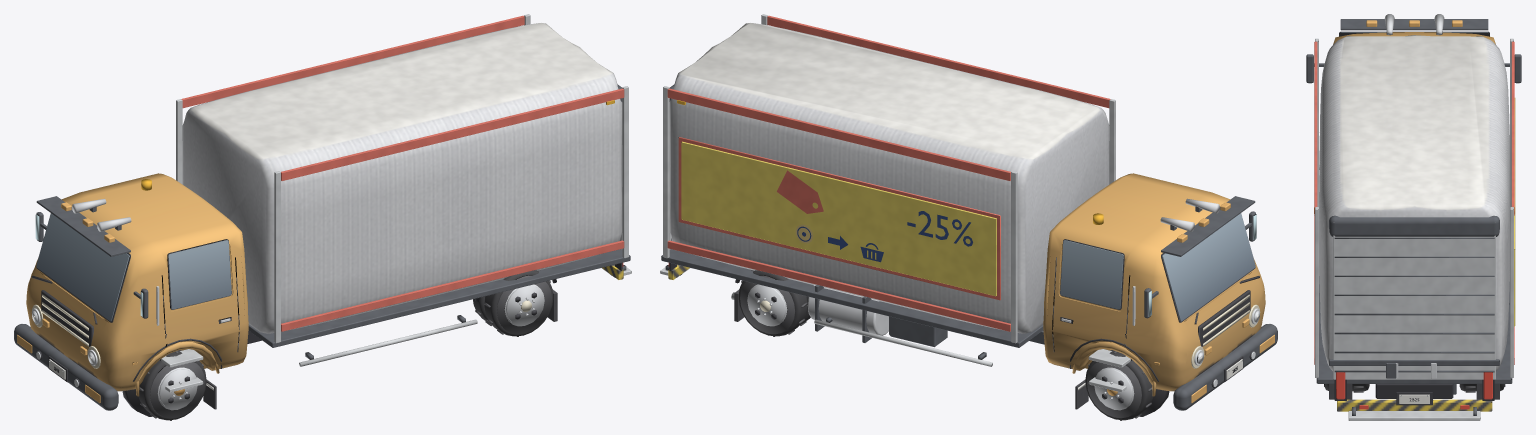
The model's file is Ofertas_BoxTruck.fbx.
The picture shows the model from 3 angles, left to right: view 1: azimuth 30°, elevation 25°; view 2: azimuth 150°, elevation 25°; view 3: azimuth 270°, elevation 25°; orthographic projection.
Parts seen in each view (by area): view 1: Ofertas_BoxTruck; view 2: Ofertas_BoxTruck; view 3: Ofertas_BoxTruck.
Boxes of the visible parts, x1=… form: Ofertas_BoxTruck: x1=14, y1=14, x2=631, y2=420; Ofertas_BoxTruck: x1=660, y1=14, x2=1277, y2=420; Ofertas_BoxTruck: x1=1306, y1=14, x2=1521, y2=420.
Size of the model in its own units: 8 by 3.36 by 2.77.
1 material, 1 textured.
